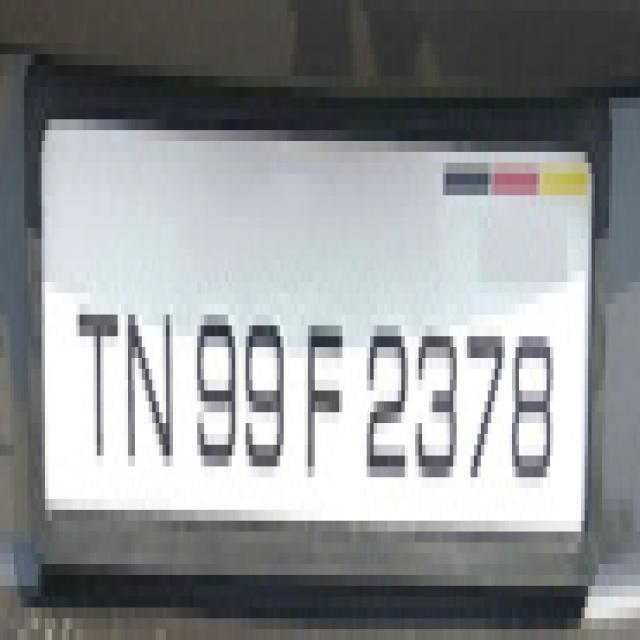3: (413, 288, 462, 492)
7: (463, 296, 510, 513)
8: (509, 288, 556, 503)
9: (241, 277, 287, 493), (190, 276, 238, 482)
F: (298, 286, 349, 502)
N: (123, 256, 176, 492)
T: (69, 264, 123, 478)
